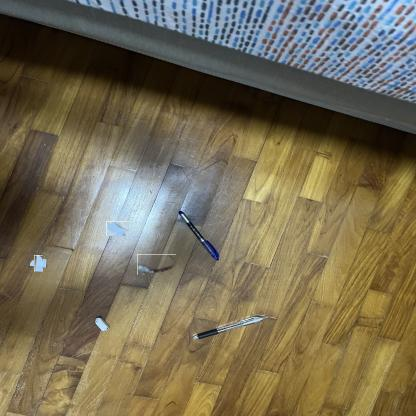dirty: (137, 254, 176, 275), (106, 221, 129, 236), (32, 257, 45, 270)
